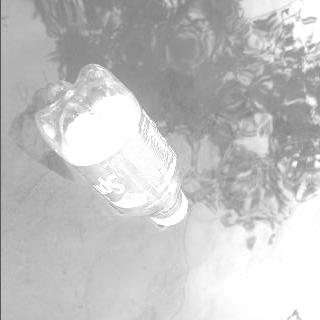bottle: (33, 63, 188, 226)
